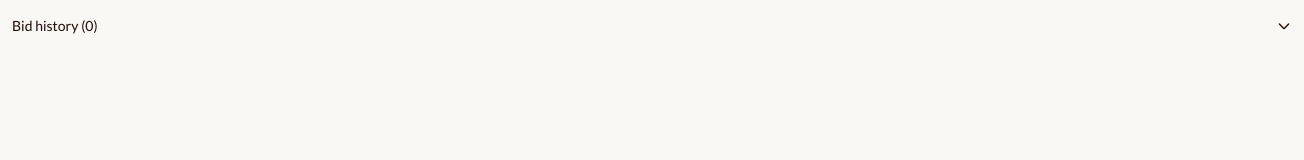
Test: BidHistory › toggle › collapses bid list when toggle clicked twice
Click the button "Bid history (0)" at [45, 26], box 12,16 -> 1292,36
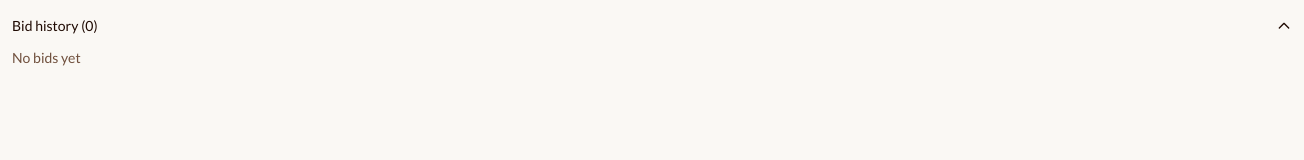
Now the text "No bids yet" is shown, box 12,49 -> 81,66
Click the button "Bid history (0)" at [45, 26], box 12,16 -> 1292,36
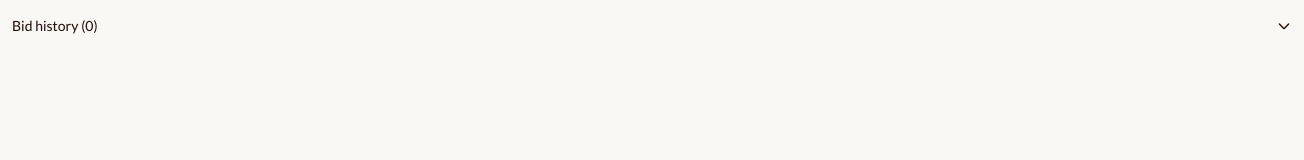
Now the text "No bids yet" is gone
